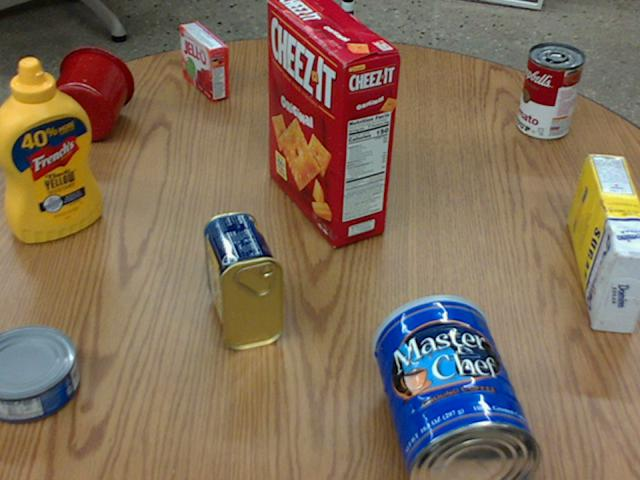cracker_box: (266, 0, 400, 244)
gelatin_box: (182, 22, 230, 101)
large_marker: (339, 0, 353, 64)
master_chef_can: (373, 294, 541, 479)
mug: (43, 47, 134, 141)
mustard_bottle: (0, 57, 102, 242)
potted_meat_can: (202, 211, 283, 350)
sugar_box: (568, 154, 639, 333)
tomato_soup_can: (517, 43, 584, 139)
tuna_fish_can: (0, 325, 78, 419)
